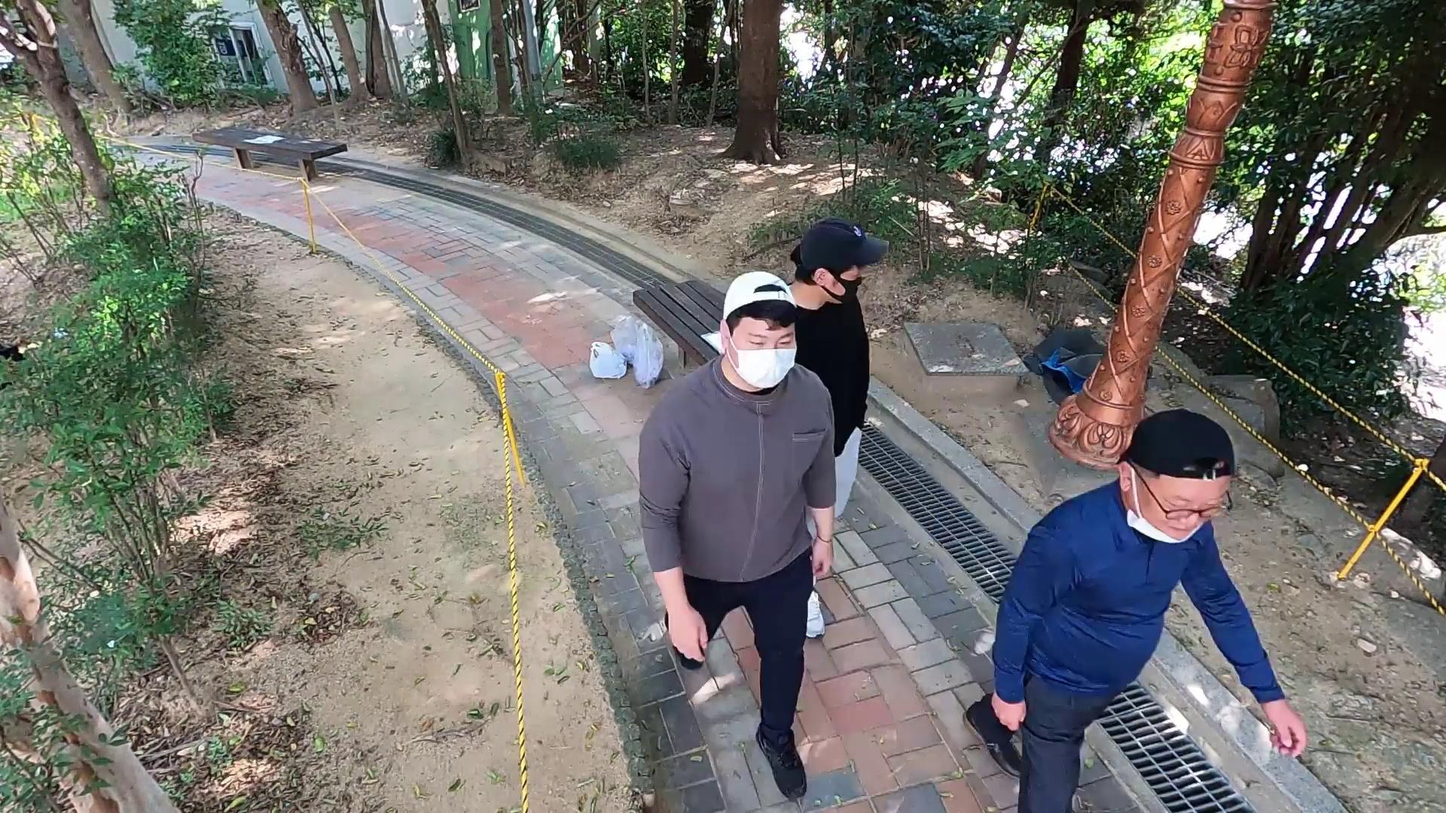person: (962, 409, 1307, 813), (636, 273, 827, 803), (788, 218, 894, 647)
trash: (1025, 319, 1155, 408), (629, 317, 664, 393), (607, 317, 645, 367), (587, 341, 628, 384)
